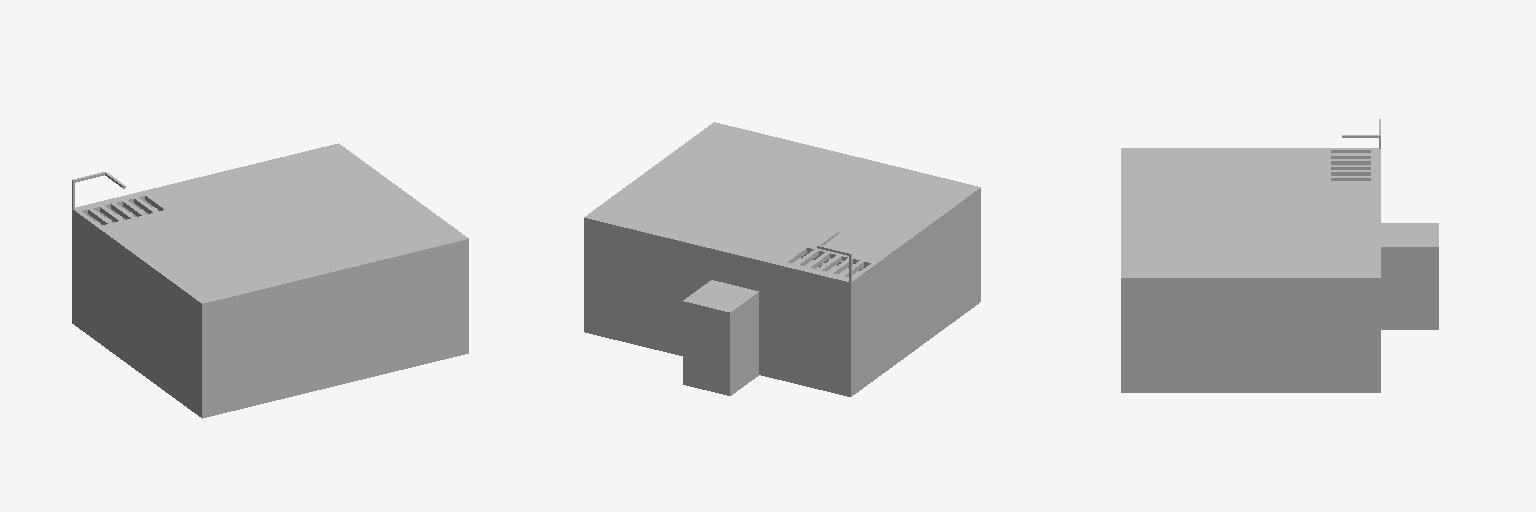
Rendered from Room_Final.obj.
The picture shows the model from 3 angles: view 1: azimuth 30°, elevation 25°; view 2: azimuth 150°, elevation 25°; view 3: azimuth 270°, elevation 25°; orthographic projection.
Visible parts, largest first — view 1: object 1; view 2: object 1; view 3: object 1.
Part boxes in pixels (bbox=[...]): object 1: bbox=[72, 143, 468, 418]; object 1: bbox=[584, 122, 980, 396]; object 1: bbox=[1121, 119, 1438, 392].
Size of the model in its own units: 11.7 by 6 by 12.1.